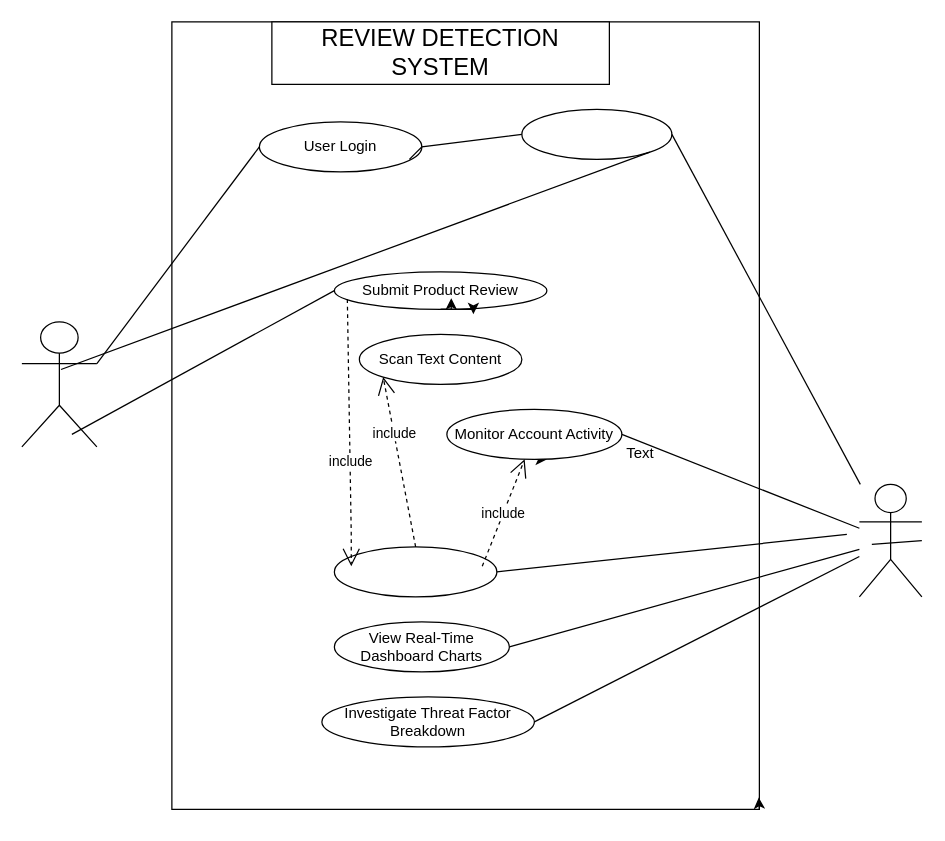
Image size: 945x841. Some labels were removed from this diagram. Here are the shapes that lost their labels. From the top down, the centre of each, then its label:
the point at 596,133: Logout
the point at 59,384: End User
the point at 890,540: Admin
the point at 415,571: Compute Suspicion Score
